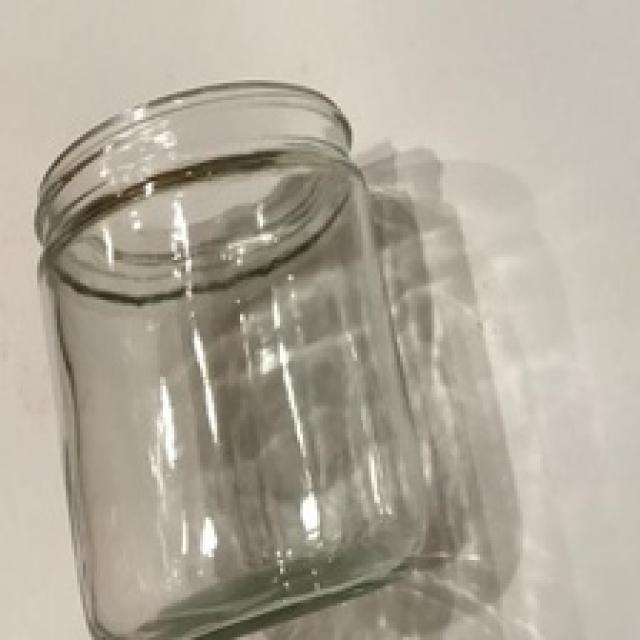Glass: (35, 80, 432, 640)
